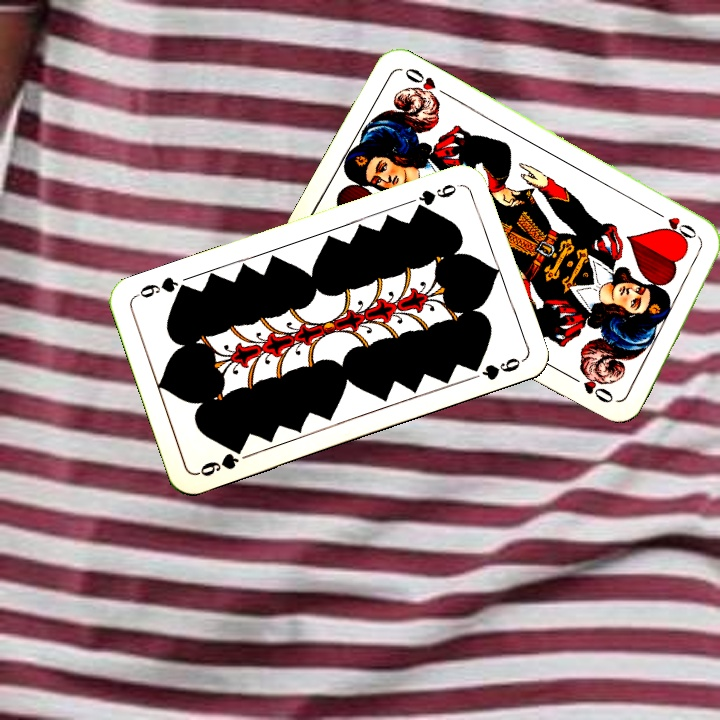G9: (406, 179, 464, 214), (193, 442, 247, 479)
HO: (652, 207, 705, 246)
